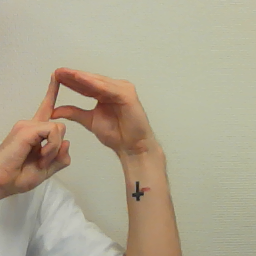P: (9, 65, 160, 183)
